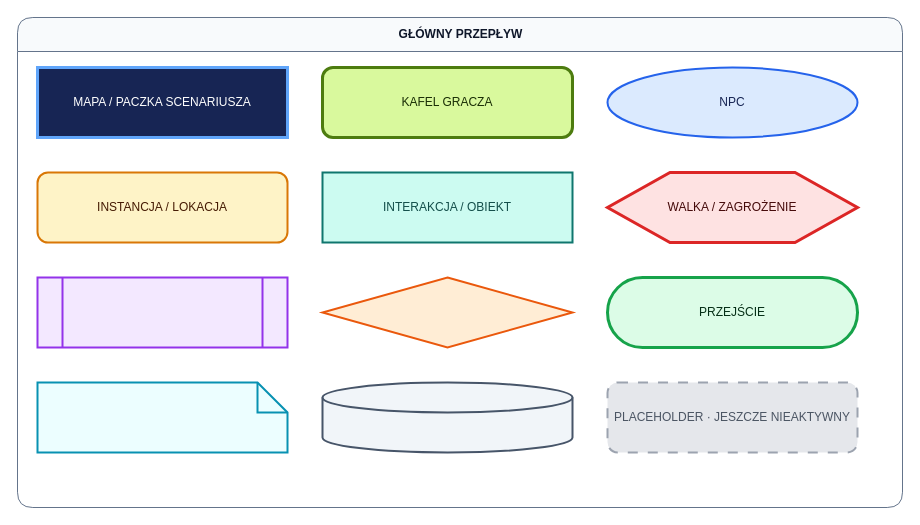
This 920x525 diagram has some shape labels left out. Here are the shapes that lost their labels. From the top down, the box of each, then its label:
(36, 276, 288, 348): MOMENT BOHATERA
(321, 276, 573, 348): DECYZJA
(36, 381, 288, 453): TROP / INFORMACJA
(321, 381, 573, 453): ZASÓB / STAN
